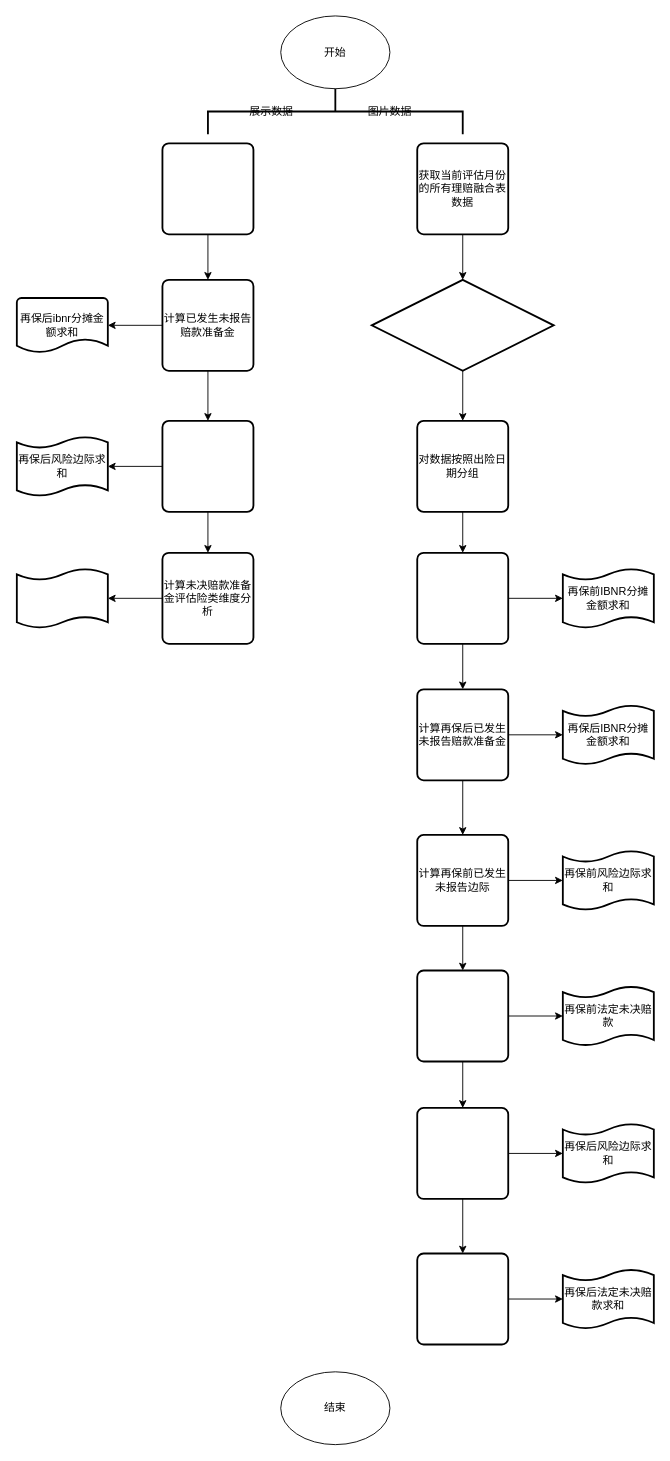
Some shapes in this 670 by 1461 pixel diagram are drawn without their labels. Here are the shapes that lost their labels. From the top down, the centre of each, then its label:
At (207,188): "获取当前时间的评估月份所有的理赔融合表数据".
At (462,324): "判断是否存在一个相同评估月份和相同起保日期或核赔日期的图标数据".
At (207,466): "计算已发生未报告边际".
At (61,597): "根据险类分组求和“再保后会计未决”".
At (462,597): "计算再保前已发生未报告赔款准备金".
At (462,1015): "计算再保后已发生未报告边际".
At (462,1153): "计算理赔未决赔款准备金总额".
At (462,1298): "计算摊回未决赔款准备金总额".
